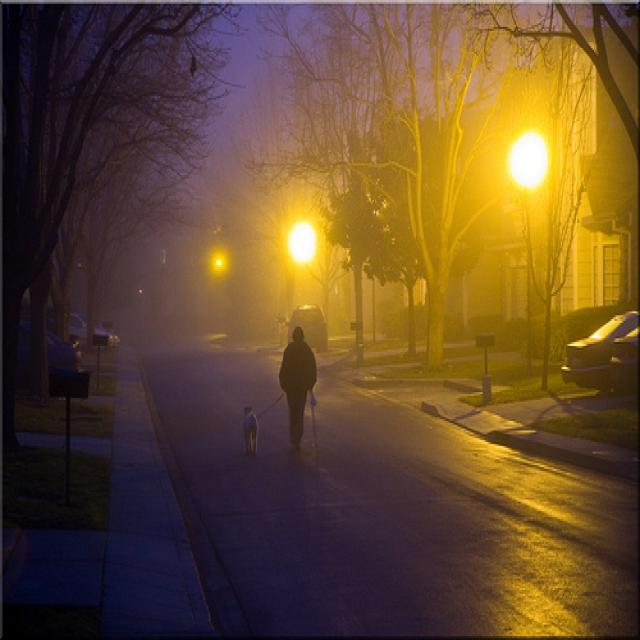Dog: (210, 374, 282, 474)
